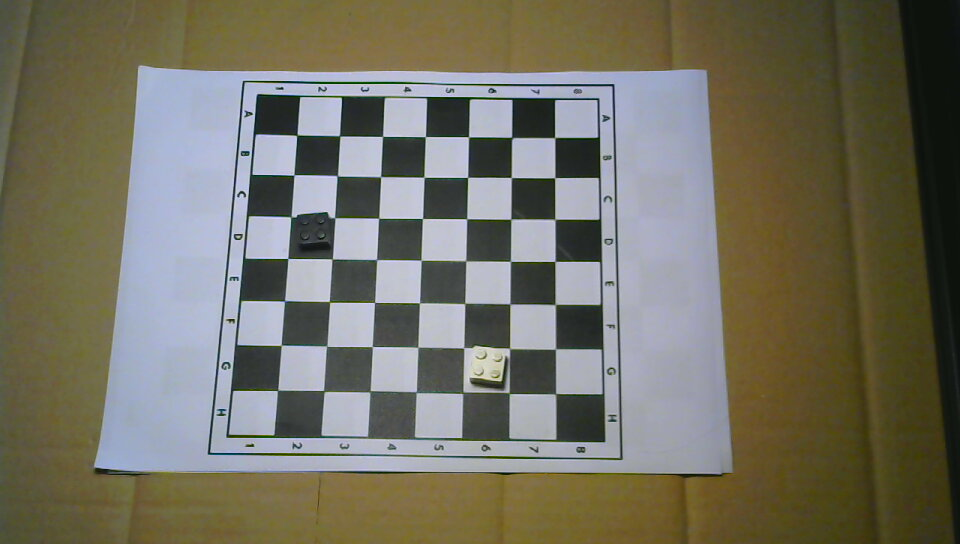bp: (294, 211, 333, 251)
wp: (469, 344, 508, 389)
